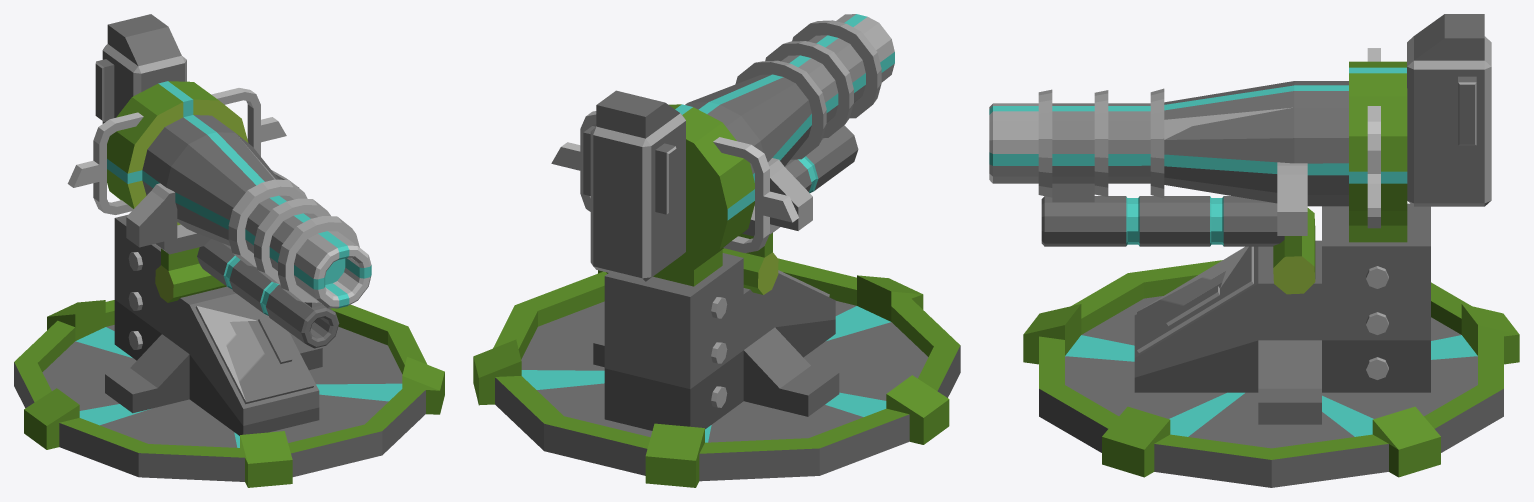
Rendered from tower_laser_green_3.fbx.
3 views of the same model, side by side, from view 1: azimuth 30°, elevation 25°; view 2: azimuth 150°, elevation 25°; view 3: azimuth 270°, elevation 25° (orthographic). The views are drawn at different scales.
Parts seen in each view (by area): view 1: top_laser_green_3, tower_laser_green_3; view 2: top_laser_green_3, tower_laser_green_3; view 3: top_laser_green_3, tower_laser_green_3.
Part boxes in pixels (box(x1,y1,x2,y2)): top_laser_green_3: box(67, 14, 371, 435); tower_laser_green_3: box(14, 300, 444, 487); top_laser_green_3: box(551, 14, 894, 430); tower_laser_green_3: box(473, 258, 960, 487); top_laser_green_3: box(989, 14, 1491, 424); tower_laser_green_3: box(1023, 260, 1519, 487).
Size of the model in its own units: 147 by 117 by 157.
